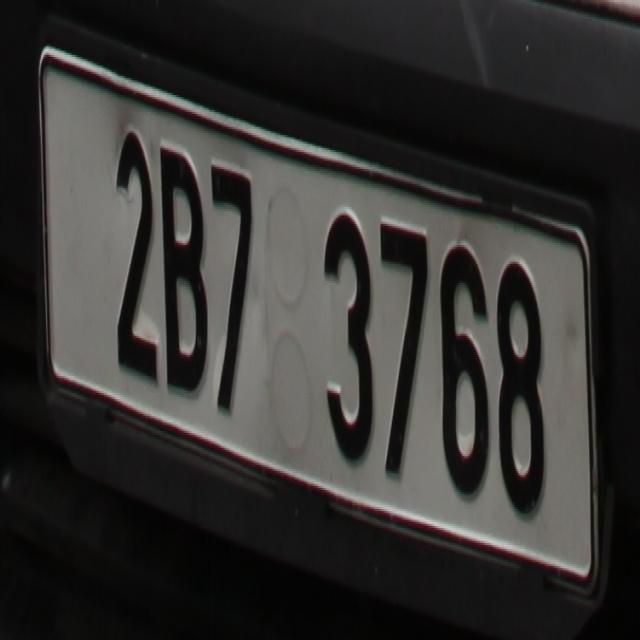2: (112, 126, 160, 382)
3: (323, 203, 372, 472)
6: (437, 234, 489, 496)
7: (378, 211, 430, 480), (208, 156, 250, 431)
8: (494, 252, 544, 514)
B: (159, 144, 209, 393)
